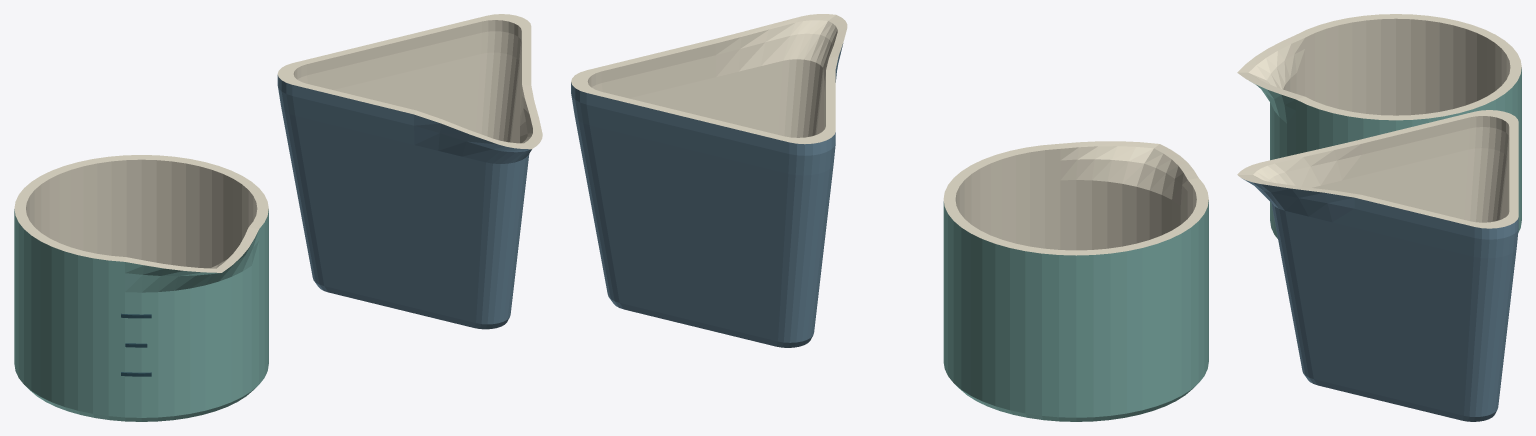
3 renders of one model, left to right at view 1: azimuth 30°, elevation 25°; view 2: azimuth 150°, elevation 25°; view 3: azimuth 270°, elevation 25°, orthographic. The views are drawn at different scales.
Parts seen in each view (by area): view 1: TriangularBeaker_ContinuousTaperedShell, RoundBeaker_ContinuousLowStraightShell; view 2: TriangularBeaker_ContinuousTaperedShell, RoundBeaker_ContinuousLowStraightShell; view 3: TriangularBeaker_ContinuousTaperedShell, RoundBeaker_ContinuousLowStraightShell.
Boxes of the visible parts, box(x1,y1,x2,y2) form: TriangularBeaker_ContinuousTaperedShell: box(277, 14, 542, 329); RoundBeaker_ContinuousLowStraightShell: box(14, 155, 268, 421); TriangularBeaker_ContinuousTaperedShell: box(571, 14, 847, 347); RoundBeaker_ContinuousLowStraightShell: box(943, 141, 1208, 421); TriangularBeaker_ContinuousTaperedShell: box(1237, 110, 1518, 421); RoundBeaker_ContinuousLowStraightShell: box(1237, 14, 1521, 238).
Size of the model in its own units: 0.5079 by 0.188 by 0.233.
